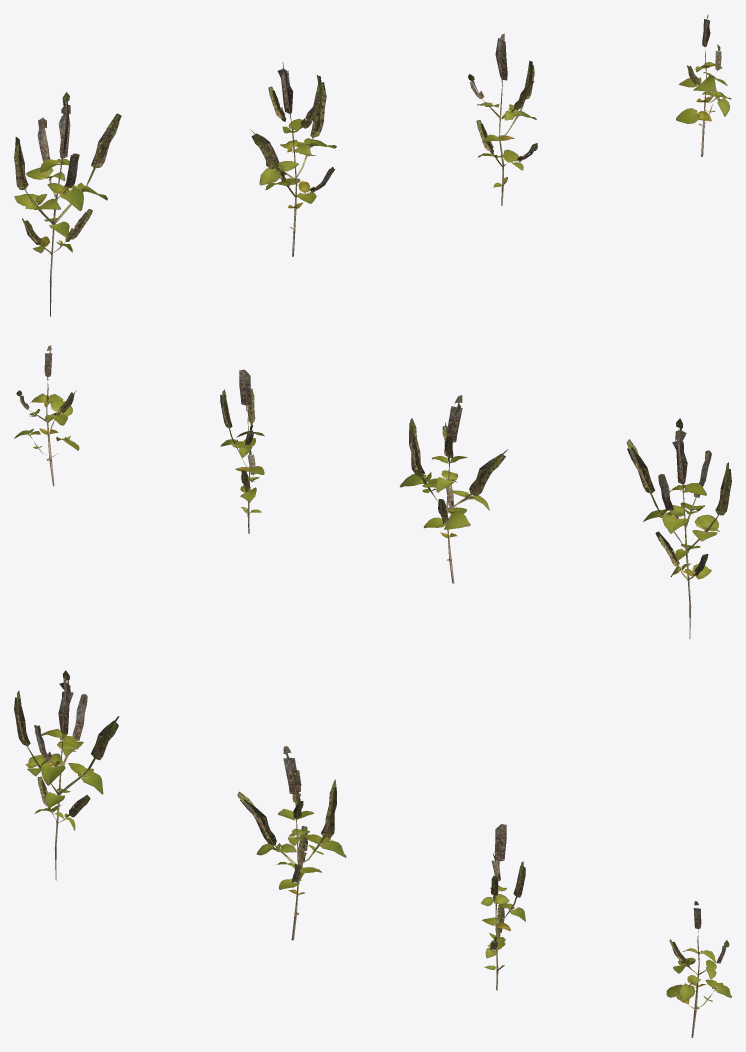
File: shrub_03.glb
The picture shows the model from 3 angles, top to bottom: view 1: azimuth 30°, elevation 25°; view 2: azimuth 150°, elevation 25°; view 3: azimuth 330°, elevation 25°; orthographic projection. The views are drawn at different scales.
Parts seen in each view (by area): view 1: shrub_03_a; view 2: shrub_03_a; view 3: shrub_03_a.
Part boxes in pixels (x1,y1,x2,y2): shrub_03_a: (14, 14, 731, 316); shrub_03_a: (14, 345, 731, 638); shrub_03_a: (14, 670, 731, 1037).
Bounding box in the file's own units: 1.37 × 0.4027 × 0.1512.
Materials: 1 (1 with a texture image).
